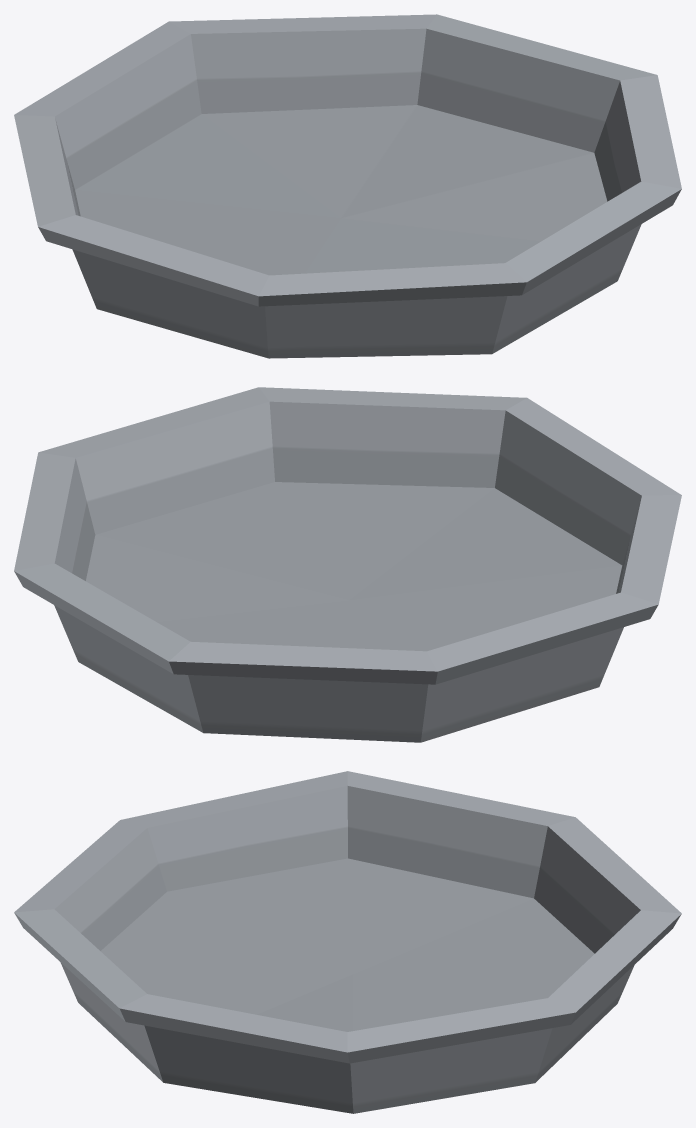
Rendered from SM_Prop_Plate_Large_04.fbx.
3 views of the same model, one above another, from view 1: azimuth 30°, elevation 25°; view 2: azimuth 150°, elevation 25°; view 3: azimuth 270°, elevation 25° (orthographic). The views are drawn at different scales.
Parts seen in each view (by area): view 1: SM_Prop_Plate_Large_04; view 2: SM_Prop_Plate_Large_04; view 3: SM_Prop_Plate_Large_04.
Part boxes in pixels (left/top/right/bottom): SM_Prop_Plate_Large_04: left=14, top=14, right=681, bottom=358; SM_Prop_Plate_Large_04: left=14, top=387, right=681, bottom=742; SM_Prop_Plate_Large_04: left=14, top=771, right=681, bottom=1113.
Size of the model in its own units: 87.58 by 14.19 by 87.64.
